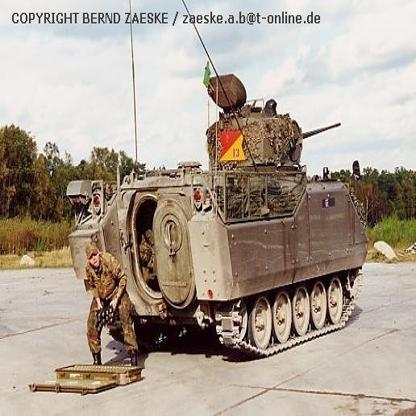Tank: (62, 75, 384, 353)
